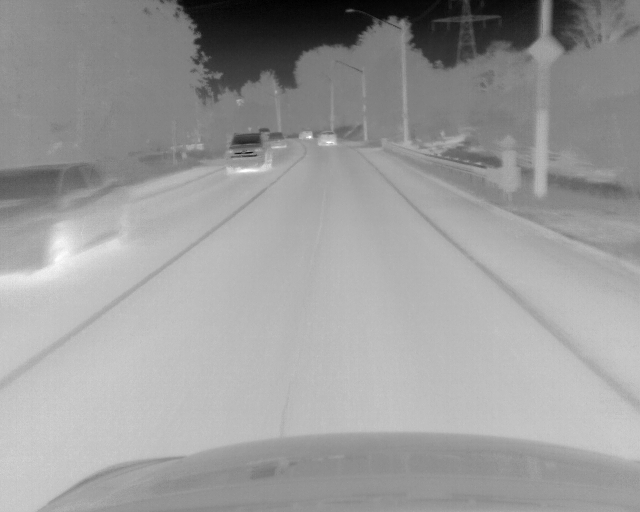car: (1, 162, 131, 277), (224, 132, 273, 175), (268, 131, 288, 150), (316, 130, 336, 147), (297, 130, 313, 141)
